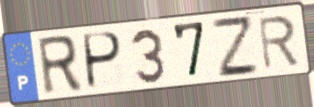3: (128, 25, 168, 86)
7: (171, 20, 207, 82)
P: (83, 30, 125, 91)
R: (35, 33, 85, 99), (256, 13, 302, 72)
Z: (209, 15, 262, 80)
